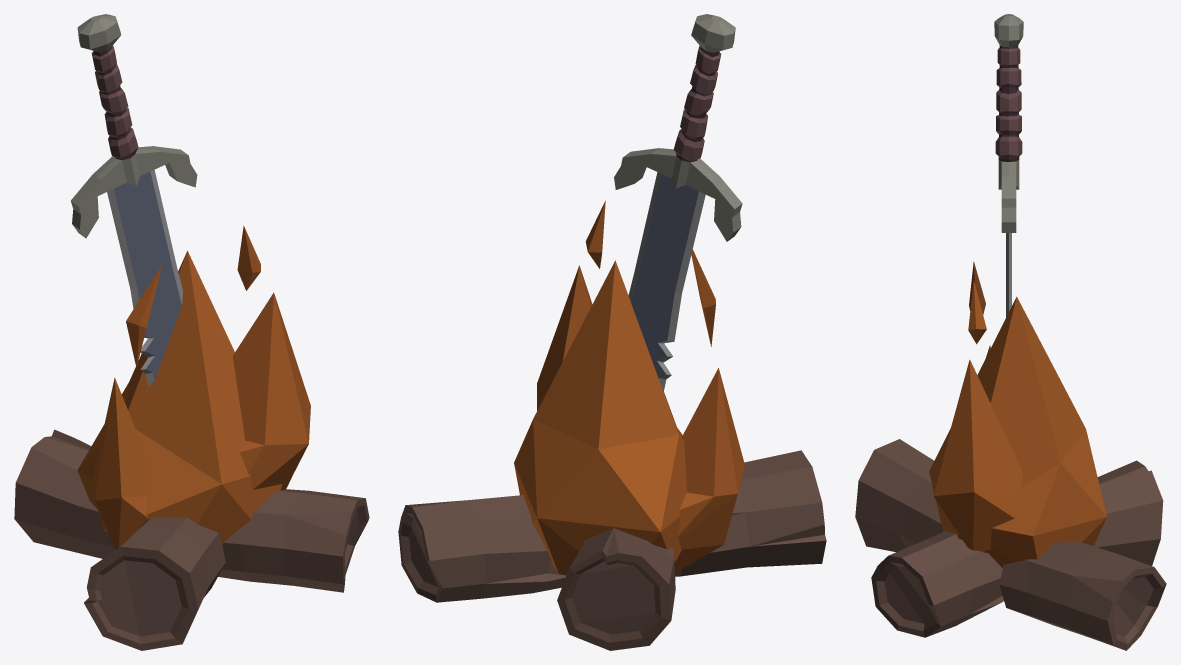
Rendered from Bonfire.fbx.
3 renders of one model, left to right at view 1: azimuth 30°, elevation 25°; view 2: azimuth 150°, elevation 25°; view 3: azimuth 270°, elevation 25°, orthographic. The views are drawn at different scales.
Parts seen in each view (by area): view 1: Bonfire_Fire, Sword; view 2: Bonfire_Fire, Sword; view 3: Bonfire_Fire, Sword.
Boxes of the visible parts, left/top/right/bottom form: Bonfire_Fire: left=14, top=225, right=369, bottom=650; Sword: left=71, top=14, right=197, bottom=386; Bonfire_Fire: left=398, top=200, right=826, bottom=650; Sword: left=614, top=14, right=742, bottom=391; Bonfire_Fire: left=855, top=261, right=1166, bottom=650; Sword: left=994, top=14, right=1023, bottom=317.
Bounding box in the file's own units: 218 × 377 × 198.
